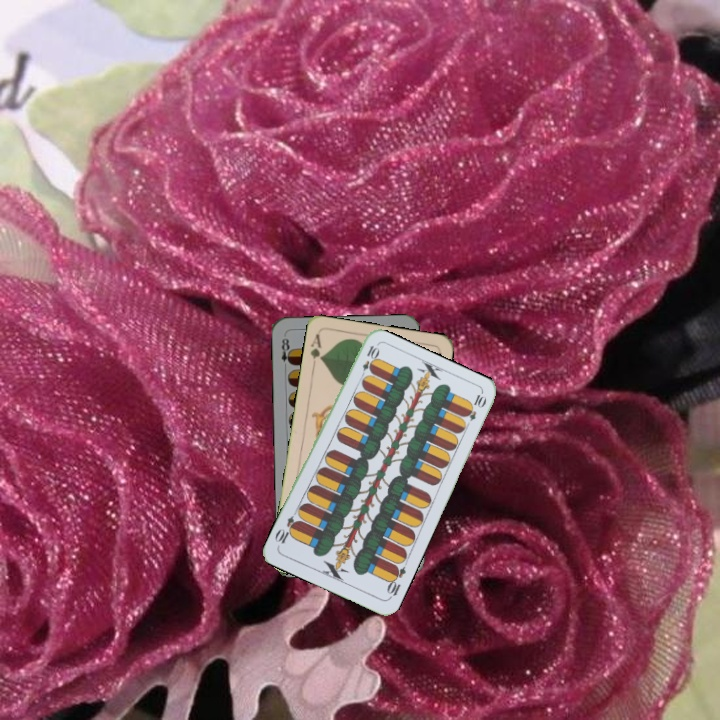E10: (383, 561, 408, 601), (357, 342, 381, 381)
E8: (277, 334, 294, 372)
GA: (306, 330, 326, 370)
